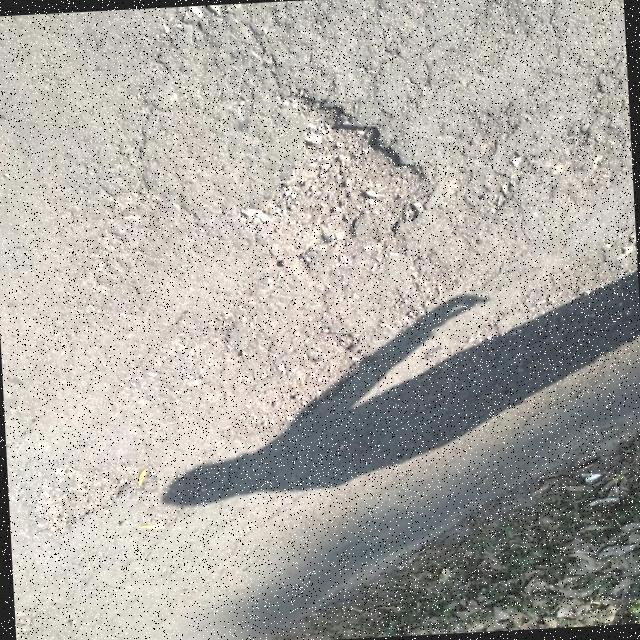Pothole: (269, 87, 437, 270), (218, 332, 366, 444), (34, 469, 219, 536)
